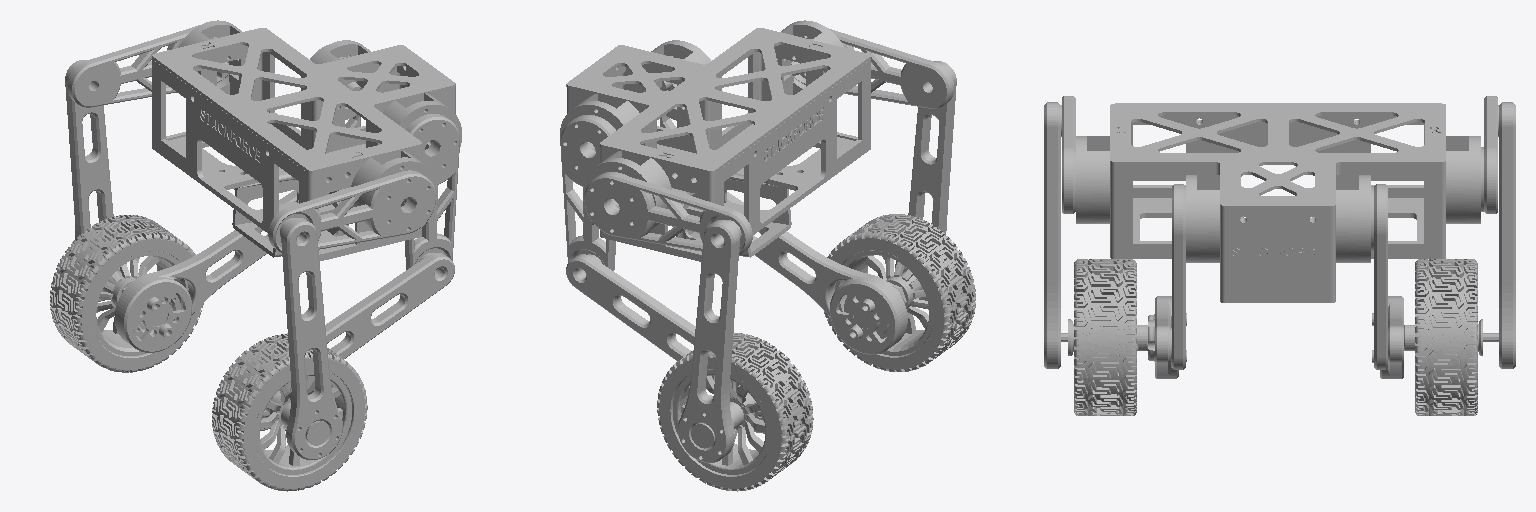
The robot description file, URDF, robot "rh1":
<?xml version="1.0"?>
<!-- This URDF was automatically created by SolidWorks to URDF Exporter! Originally created by Stephen Brawner (brawner@gmail.com) 
     Commit Version: 1.6.0-4-g7f85cfe  Build Version: 1.6.7995.38578
     For more information, please see http://wiki.ros.org/sw_urdf_exporter -->
<robot
  name="rh1">
  <link
    name="base_link">
    <inertial>
      <origin
        xyz="0.01962 0.00042858 0.1275"
        rpy="0 0 0" />
      <mass
        value="0.10447" />
      <inertia
        ixx="0.00014284"
        ixy="-4.8698E-08"
        ixz="6.5351E-07"
        iyy="0.00010434"
        iyz="-2.1296E-08"
        izz="0.00021415" />
    </inertial>
    <visual>
      <origin
        xyz="0 0 0"
        rpy="0 0 0" />
      <geometry>
        <mesh
          filename="./meshes/visual/base_link.STL" />
      </geometry>
      <material
        name="">
        <color
          rgba="0.75294 0.75294 0.75294 1" />
      </material>
    </visual>
    <collision>
      <origin
        xyz="0 0 0"
        rpy="0 0 0" />
      <geometry>
        <mesh
          filename="./meshes/visual/base_link.STL" />
      </geometry>
    </collision>
  </link>
  <link
    name="Link1">
    <inertial>
      <origin
        xyz="-0.018172 7.5943E-07 -0.00024017"
        rpy="0 0 0" />
      <mass
        value="0.010538" />
      <inertia
        ixx="6.4723E-07"
        ixy="2.2204E-11"
        ixz="-3.9655E-08"
        iyy="4.7414E-06"
        iyz="-1.4489E-11"
        izz="5.326E-06" />
    </inertial>
    <visual>
      <origin
        xyz="0 0 0"
        rpy="0 0 0" />
      <geometry>
        <mesh
          filename="./meshes/visual/Link1.STL" />
      </geometry>
      <material
        name="">
        <color
          rgba="0.75294 0.75294 0.75294 1" />
      </material>
    </visual>
    <collision>
      <origin
        xyz="0 0 0"
        rpy="0 0 0" />
      <geometry>
        <mesh
          filename="./meshes/visual/Link1.STL" />
      </geometry>
    </collision>
  </link>
  <joint
    name="joint1"
    type="revolute">
    <origin
      xyz="0.0094733 -0.089437 0.13366"
      rpy="1.5708 0 0" />
    <parent
      link="base_link" />
    <child
      link="Link1" />
    <axis
      xyz="0 0 1" />
    <limit
      lower="-3.14"
      upper="3.14"
      effort="0"
      velocity="0" />
  </joint>
  <link
    name="Link2">
    <inertial>
      <origin
        xyz="0.0053781 -0.065346 -0.01087"
        rpy="0 0 0" />
      <mass
        value="0.015817" />
      <inertia
        ixx="1.6036E-05"
        ixy="1.2278E-06"
        ixz="-1.264E-08"
        iyy="1.2182E-06"
        iyz="1.5358E-07"
        izz="1.5983E-05" />
    </inertial>
    <visual>
      <origin
        xyz="0 0 0"
        rpy="0 0 0" />
      <geometry>
        <mesh
          filename="./meshes/visual/Link2.STL" />
      </geometry>
      <material
        name="">
        <color
          rgba="0.75294 0.75294 0.75294 1" />
      </material>
    </visual>
    <collision>
      <origin
        xyz="0 0 0"
        rpy="0 0 0" />
      <geometry>
        <mesh
          filename="./meshes/visual/Link2.STL" />
      </geometry>
    </collision>
  </link>
  <joint
    name="joint2"
    type="revolute">
    <origin
      xyz="-0.06 0 0.011076"
      rpy="0 0 0" />
    <parent
      link="Link1" />
    <child
      link="Link2" />
    <axis
      xyz="0 0 1" />
    <limit
      lower="-3.14"
      upper="3.14"
      effort="0"
      velocity="0" />
  </joint>
  <link
    name="Link4">
    <inertial>
      <origin
        xyz="5.8973E-12 7.5797E-11 0.0027038"
        rpy="0 0 0" />
      <mass
        value="0.035175" />
      <inertia
        ixx="1.5237E-05"
        ixy="-3.2644E-10"
        ixz="-1.1281E-14"
        iyy="1.5237E-05"
        iyz="-3.6697E-14"
        izz="2.5786E-05" />
    </inertial>
    <visual>
      <origin
        xyz="0 0 0"
        rpy="0 0 0" />
      <geometry>
        <mesh
          filename="./meshes/visual/Link4.STL" />
      </geometry>
      <material
        name="">
        <color
          rgba="0.75294 0.75294 0.75294 1" />
      </material>
    </visual>
    <collision>
      <origin
        xyz="0 0 0"
        rpy="0 0 0" />
      <geometry>
        <mesh
          filename="./meshes/visual/Link4.STL" />
      </geometry>
    </collision>
  </link>
  <joint
    name="joint4"
    type="continuous">
    <origin
      xyz="0.0082023 -0.099663 -0.028996"
      rpy="0 0 0" />
    <parent
      link="Link2" />
    <child
      link="Link4" />
    <axis
      xyz="0 0 -1" />
    <limit
      lower="-3.14"
      upper="3.14"
      effort="0"
      velocity="0" />
  </joint>
  <link
    name="Link5">
    <inertial>
      <origin
        xyz="7.8142E-07 -0.018172 -0.00030928"
        rpy="0 0 0" />
      <mass
        value="0.010538" />
      <inertia
        ixx="4.7414E-06"
        ixy="3.7331E-13"
        ixz="-1.4896E-11"
        iyy="6.4723E-07"
        iyz="-3.9651E-08"
        izz="5.326E-06" />
    </inertial>
    <visual>
      <origin
        xyz="0 0 0"
        rpy="0 0 0" />
      <geometry>
        <mesh
          filename="./meshes/visual/Link5.STL" />
      </geometry>
      <material
        name="">
        <color
          rgba="0.75294 0.75294 0.75294 1" />
      </material>
    </visual>
    <collision>
      <origin
        xyz="0 0 0"
        rpy="0 0 0" />
      <geometry>
        <mesh
          filename="./meshes/visual/Link5.STL" />
      </geometry>
    </collision>
  </link>
  <joint
    name="joint5"
    type="revolute">
    <origin
      xyz="0.049473 -0.041906 0.13366"
      rpy="1.5708 0 0" />
    <parent
      link="base_link" />
    <child
      link="Link5" />
    <axis
      xyz="0 0 1" />
    <limit
      lower="-3.14"
      upper="3.14"
      effort="0"
      velocity="0" />
  </joint>
  <link
    name="Link6">
    <inertial>
      <origin
        xyz="-0.055906 -0.024155 -0.0031934"
        rpy="0 0 0" />
      <mass
        value="0.014489" />
      <inertia
        ixx="3.7915E-06"
        ixy="-6.4435E-06"
        ixz="-4.0459E-07"
        iyy="1.5922E-05"
        iyz="-1.7481E-07"
        izz="1.9476E-05" />
    </inertial>
    <visual>
      <origin
        xyz="0 0 0"
        rpy="0 0 0" />
      <geometry>
        <mesh
          filename="./meshes/visual/Link6.STL" />
      </geometry>
      <material
        name="">
        <color
          rgba="0.75294 0.75294 0.75294 1" />
      </material>
    </visual>
    <collision>
      <origin
        xyz="0 0 0"
        rpy="0 0 0" />
      <geometry>
        <mesh
          filename="./meshes/visual/Link6.STL" />
      </geometry>
    </collision>
  </link>
  <joint
    name="joint6"
    type="revolute">
    <origin
      xyz="0 -0.06 0.0098958"
      rpy="0 0 0" />
    <parent
      link="Link5" />
    <child
      link="Link6" />
    <axis
      xyz="0 0 1" />
    <limit
      lower="-3.14"
      upper="3.14"
      effort="0"
      velocity="0" />
  </joint>
  <!-- <link
    name="Link6_3">
    <inertial>
      <origin
        xyz="-0.0028243 0.034317 0.047623"
        rpy="0 0 0" />
      <mass
        value="0.015817" />
      <inertia
        ixx="1.6036E-05"
        ixy="1.2278E-06"
        ixz="-1.264E-08"
        iyy="1.2182E-06"
        iyz="1.5358E-07"
        izz="1.5983E-05" />
    </inertial>
    <visual>
      <origin
        xyz="0 0 0"
        rpy="0 0 0" />
      <geometry>
        <mesh
          filename="./meshes/visual/Link6_3.STL" />
      </geometry>
      <material
        name="">
        <color
          rgba="0.75294 0.75294 0.75294 1" />
      </material>
    </visual>
    <collision>
      <origin
        xyz="0 0 0"
        rpy="0 0 0" />
      <geometry>
        <mesh
          filename="./meshes/visual/Link6_3.STL" />
      </geometry>
    </collision>
  </link>
  <joint
    name="joint6_3"
    type="revolute">
    <origin
      xyz="-0.091798 -0.039663 -0.0097823"
      rpy="0 0 0" />
    <parent
      link="Link6" />
    <child
      link="Link6_3" />
    <axis
      xyz="0 0 -1" />
    <limit
      lower="-3.14"
      upper="3.14"
      effort="0"
      velocity="0" />
  </joint> -->
  <link
    name="Link7">
    <inertial>
      <origin
        xyz="-0.018173 3.9048E-07 -0.00012552"
        rpy="0 0 0" />
      <mass
        value="0.010538" />
      <inertia
        ixx="6.473E-07"
        ixy="-4.2889E-11"
        ixz="-3.9638E-08"
        iyy="4.7414E-06"
        iyz="-7.4543E-12"
        izz="5.326E-06" />
    </inertial>
    <visual>
      <origin
        xyz="0 0 0"
        rpy="0 0 0" />
      <geometry>
        <mesh
          filename="./meshes/visual/Link7.STL" />
      </geometry>
      <material
        name="">
        <color
          rgba="0.75294 0.75294 0.75294 1" />
      </material>
    </visual>
    <collision>
      <origin
        xyz="0 0 0"
        rpy="0 0 0" />
      <geometry>
        <mesh
          filename="./meshes/visual/Link7.STL" />
      </geometry>
    </collision>
  </link>
  <joint
    name="joint7"
    type="revolute">
    <origin
      xyz="0.0094718 0.091801 0.13366"
      rpy="-1.5708 0 0" />
    <parent
      link="base_link" />
    <child
      link="Link7" />
    <axis
      xyz="0 0 1" />
    <limit
      lower="-3.14"
      upper="3.14"
      effort="0"
      velocity="0" />
  </joint>
  <link
    name="Link8">
    <inertial>
      <origin
        xyz="0.00508369315172685 0.0617689135567761 -0.000965127282158473"
        rpy="0 0 0" />
      <mass
        value="0.0143239621390429" />
      <inertia
        ixx="1.59840454344718E-05"
        ixy="-1.22784533258312E-06"
        ixz="-1.26401786116325E-08"
        iyy="1.16628084005259E-06"
        iyz="-1.53583258582387E-07"
        izz="1.58968311144759E-05" />
    </inertial>
    <visual>
      <origin
        xyz="0 0 0"
        rpy="0 0 0" />
      <geometry>
        <mesh
          filename="./meshes/visual/Link8.STL" />
      </geometry>
      <material
        name="">
        <color
          rgba="0.752941176470588 0.752941176470588 0.752941176470588 1" />
      </material>
    </visual>
    <collision>
      <origin
        xyz="0 0 0"
        rpy="0 0 0" />
      <geometry>
        <mesh
          filename="./meshes/visual/Link8.STL" />
      </geometry>
    </collision>
  </link>
  <joint
    name="joint8"
    type="revolute">
    <origin
      xyz="-0.06 0 0.005271"
      rpy="0 0 0" />
    <parent
      link="Link7" />
    <child
      link="Link8" />
    <axis
      xyz="0 0 1" />
    <limit
      lower="-3.14"
      upper="3.14"
      effort="0"
      velocity="0" />
  </joint>
  <link
    name="Link10">
    <inertial>
      <origin
        xyz="-7.59745599765438E-11 -2.75868217158859E-12 0.00138456857344038"
        rpy="0 0 0" />
      <mass
        value="0.0351746985822278" />
      <inertia
        ixx="1.52366358450859E-05"
        ixy="2.33321293035969E-10"
        ixz="3.77430571099588E-14"
        iyy="1.52375132576132E-05"
        iyz="-7.03220082389282E-15"
        izz="2.57857822002643E-05" />
    </inertial>
    <visual>
      <origin
        xyz="0 0 0"
        rpy="0 0 0" />
      <geometry>
        <mesh
          filename="./meshes/visual/Link10.STL" />
      </geometry>
      <material
        name="">
        <color
          rgba="0.752941176470588 0.752941176470588 0.752941176470588 1" />
      </material>
    </visual>
    <collision>
      <origin
        xyz="0 0 0"
        rpy="0 0 0" />
      <geometry>
        <mesh
          filename="./meshes/visual/Link10.STL" />
      </geometry>
    </collision>
  </link>
  <joint
    name="joint10"
    type="continuous">
    <origin
      xyz="0.0082025 0.099663 -0.025257"
      rpy="0 0 0" />
    <parent
      link="Link8" />
    <child
      link="Link10" />
    <axis
      xyz="0 0 -1" />
  </joint>
  <link
    name="Link11">
    <inertial>
      <origin
        xyz="-3.90941371497533E-07 0.0181715241702438 -0.00316404313958496"
        rpy="0 0 0" />
      <mass
        value="0.0105379374763812" />
      <inertia
        ixx="4.74136373000163E-06"
        ixy="4.28926210590477E-11"
        ixz="7.45038105821198E-12"
        iyy="6.4730140420803E-07"
        iyz="3.96641272321984E-08"
        izz="5.32599102516025E-06" />
    </inertial>
    <visual>
      <origin
        xyz="0 0 0"
        rpy="0 0 0" />
      <geometry>
        <mesh
          filename="./meshes/visual/Link11.STL" />
      </geometry>
      <material
        name="">
        <color
          rgba="0.752941176470588 0.752941176470588 0.752941176470588 1" />
      </material>
    </visual>
    <collision>
      <origin
        xyz="0 0 0"
        rpy="0 0 0" />
      <geometry>
        <mesh
          filename="./meshes/visual/Link11.STL" />
      </geometry>
    </collision>
  </link>
  <joint
    name="joint11"
    type="revolute">
    <origin
      xyz="0.049472 0.047239 0.13366"
      rpy="-1.5708 0 0" />
    <parent
      link="base_link" />
    <child
      link="Link11" />
    <axis
      xyz="0 0 1" />
    <limit
      lower="-3.14"
      upper="3.14"
      effort="0"
      velocity="0" />
  </joint>
  <link
    name="Link12">
    <inertial>
      <origin
        xyz="-0.0559058690028333 0.0241551572768024 -0.000443281904084714"
        rpy="0 0 0" />
      <mass
        value="0.014489377085772" />
      <inertia
        ixx="3.79238898804388E-06"
        ixy="6.44432702222644E-06"
        ixz="-4.04594805525625E-07"
        iyy="1.59213773763054E-05"
        iyz="1.74812905548164E-07"
        izz="1.94758371660003E-05" />
    </inertial>
    <visual>
      <origin
        xyz="0 0 0"
        rpy="0 0 0" />
      <geometry>
        <mesh
          filename="./meshes/visual/Link12.STL" />
      </geometry>
      <material
        name="">
        <color
          rgba="0.752941176470588 0.752941176470588 0.752941176470588 1" />
      </material>
    </visual>
    <collision>
      <origin
        xyz="0 0 0"
        rpy="0 0 0" />
      <geometry>
        <mesh
          filename="./meshes/visual/Link12.STL" />
      </geometry>
    </collision>
  </link>
  <joint
    name="joint12"
    type="revolute">
    <origin
      xyz="0 0.06 0.0035028"
      rpy="0 0 0" />
    <parent
      link="Link11" />
    <child
      link="Link12" />
    <axis
      xyz="0 0 1" />
    <limit
      lower="-3.14"
      upper="3.14"
      effort="0"
      velocity="0" />
  </joint>
  <!-- <link
    name="Link12_9">
    <inertial>
      <origin
        xyz="-0.0031188 -0.037894 0.042953"
        rpy="0 0 0" />
      <mass
        value="0.014324" />
      <inertia
        ixx="1.5984E-05"
        ixy="-1.2278E-06"
        ixz="-1.264E-08"
        iyy="1.1663E-06"
        iyz="-1.5358E-07"
        izz="1.5897E-05" />
    </inertial>
    <visual>
      <origin
        xyz="0 0 0"
        rpy="0 0 0" />
      <geometry>
        <mesh
          filename="./meshes/visual/Link12_9.STL" />
      </geometry>
      <material
        name="">
        <color
          rgba="0.75294 0.75294 0.75294 1" />
      </material>
    </visual>
    <collision>
      <origin
        xyz="0 0 0"
        rpy="0 0 0" />
      <geometry>
        <mesh
          filename="./meshes/visual/Link12_9.STL" />
      </geometry>
    </collision>
  </link>
  <joint
    name="joint12_9"
    type="revolute">
    <origin
      xyz="-0.091798 0.039663 0.0024116"
      rpy="0 0 0" />
    <parent
      link="Link12" />
    <child
      link="Link12_9" />
    <axis
      xyz="0 0 1" />
    <limit
      lower="-3.14"
      upper="3.14"
      effort="0"
      velocity="0" />
  </joint> -->

  <gazebo>

    <joint name='joint6_3' type='revolute'>
      <pose relative_to='Link6'>-0.091798 -0.039663 -0.0097823 0 0 0</pose>
      <parent>Link2</parent>
      <child>Link6</child>
      <axis>
        <xyz>0 0 1</xyz>
      </axis>
    </joint>


    <joint name='joint12_9' type='revolute'>
      <pose relative_to='Link12'>-0.091798 0.039663 0.0024116 0 0 0</pose>
      <parent>Link8</parent>
      <child>Link12</child>
      <axis>
        <xyz>0 0 1</xyz>
      </axis>
    </joint>            

  </gazebo>



</robot>

--- What the picture shows (computed from the rendered views, not written in the file) ---
The picture shows the robot from 3 angles, left to right: view 1: azimuth 30°, elevation 25°; view 2: azimuth 150°, elevation 25°; view 3: azimuth 270°, elevation 25°; orthographic projection.
Model rh1 with 11 links and 10 joints (8 revolute, 2 continuous), rooted at base_link, posed all joints at 0.
Visible links, largest first — view 1: base_link, Link4, Link10, Link2, Link12, Link1, Link6, Link8, Link5, Link7; view 2: base_link, Link10, Link4, Link8, Link6, Link7, Link12, Link2, Link11, Link1; view 3: base_link, Link10, Link4, Link8, Link2, Link11, Link5, Link7, Link6, Link1, Link12.
Link boxes in pixels (x1,y1,x2,y2): base_link: (152, 20, 461, 260); Link4: (212, 333, 367, 491); Link10: (50, 215, 203, 372); Link2: (280, 218, 342, 459); Link12: (114, 190, 296, 352); Link1: (268, 170, 435, 252); Link6: (260, 253, 454, 430); Link8: (65, 60, 167, 326); Link5: (405, 114, 459, 269); Link7: (68, 25, 228, 107); base_link: (560, 20, 870, 261); Link10: (657, 333, 813, 491); Link4: (824, 214, 975, 371); Link8: (678, 220, 743, 462); Link6: (727, 192, 907, 354); Link7: (584, 172, 752, 254); Link12: (566, 254, 764, 433); Link2: (844, 61, 956, 339); Link11: (560, 115, 615, 270); Link1: (791, 28, 953, 108); base_link: (1076, 103, 1480, 302); Link10: (1404, 259, 1477, 415); Link4: (1074, 259, 1147, 415); Link8: (1478, 102, 1515, 368); Link2: (1044, 102, 1073, 368); Link11: (1371, 184, 1387, 369); Link5: (1172, 184, 1185, 369); Link7: (1481, 96, 1497, 213); Link6: (1148, 296, 1186, 378); Link1: (1062, 96, 1075, 213); Link12: (1372, 296, 1403, 378).
Size in the robot's own frame: 0.1509 by 0.2037 by 0.1527 metres.
Meshes: 11 distinct files referenced, 11 mesh visuals loaded (11 binary STL).
